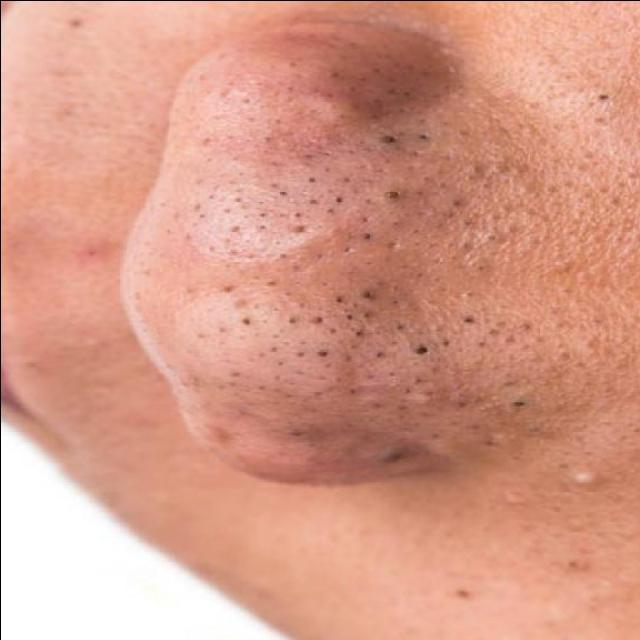blackhead: (178, 101, 501, 407)
